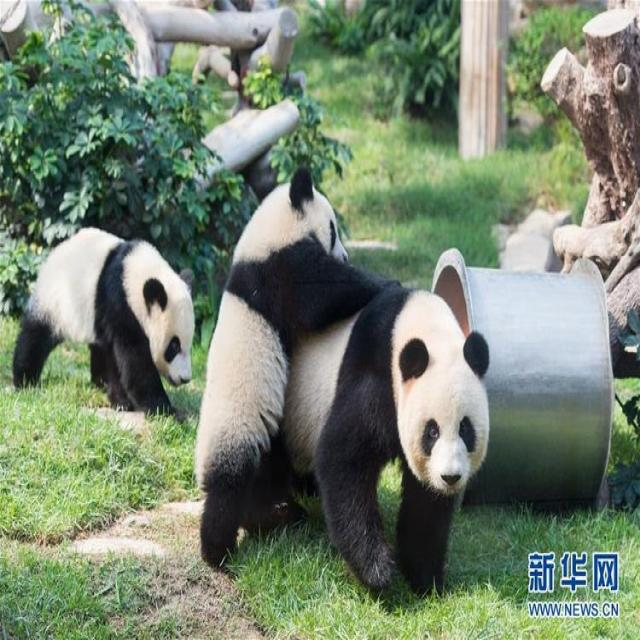panda: (27, 164, 504, 590)
